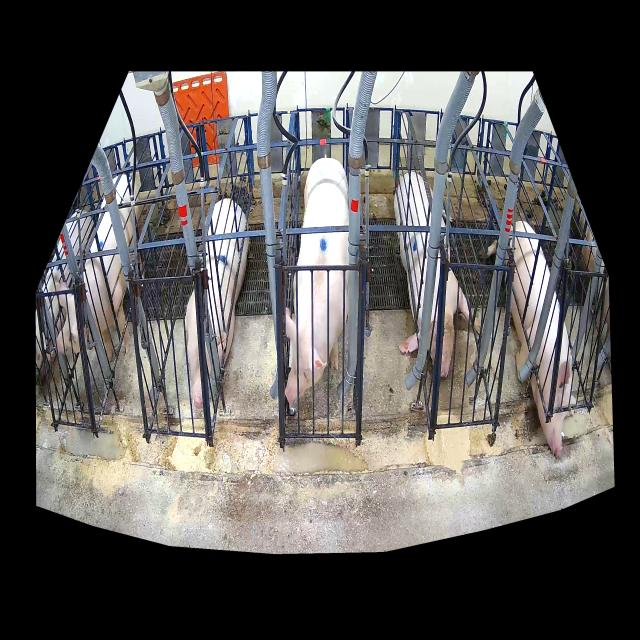pig: (55, 175, 143, 361), (284, 158, 349, 406), (505, 221, 572, 458), (394, 172, 469, 378), (185, 198, 249, 409)
